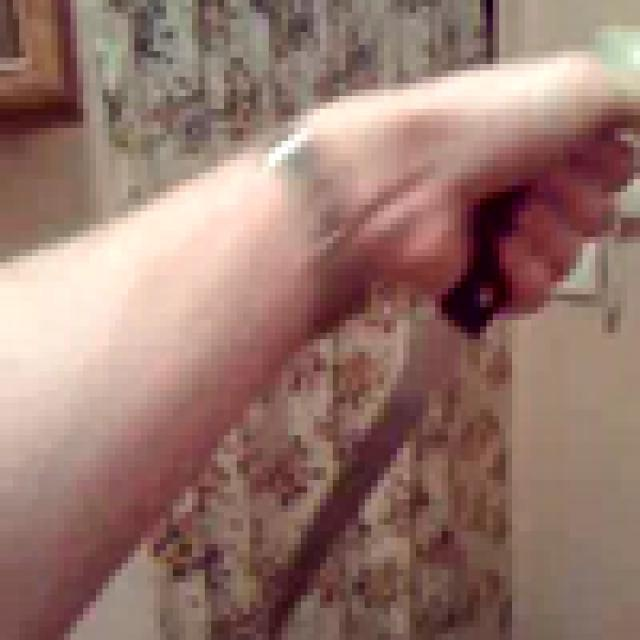knife: (249, 25, 614, 640)
